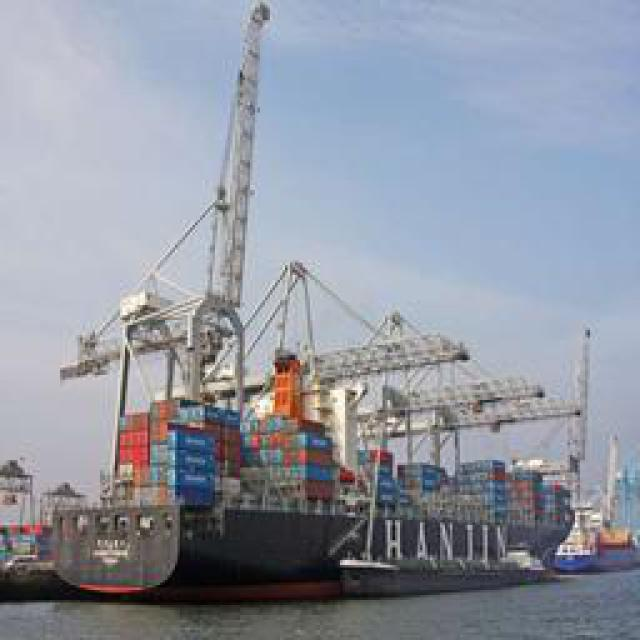Ship: (20, 205, 580, 598)
